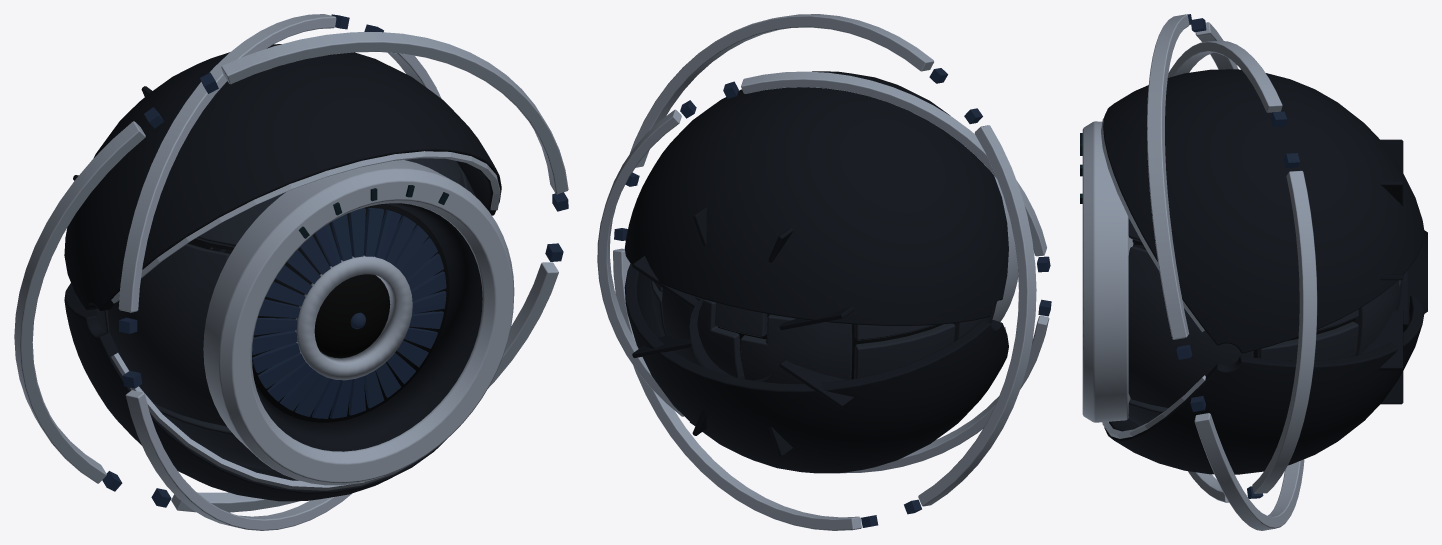
Rendered from ch1-scorer.glb.
3 renders of one model, left to right at view 1: azimuth 30°, elevation 25°; view 2: azimuth 150°, elevation 25°; view 3: azimuth 270°, elevation 25°, orthographic. The views are drawn at different scales.
Parts seen in each view (by area): view 1: lid_top, bezel, ring_outer_band, bulb, housing, ring_inner_band, throat, lid_bottom, pupil_ring, pupil, iris_back, lid_top_lip (+3 smaller); view 2: lid_top, lid_bottom, ring_outer_band, housing, ring_inner_band, fins, ring_outer_nodes, bezel, hub, ring_inner_nodes, core; view 3: lid_top, lid_bottom, housing, bezel, ring_outer_band, ring_inner_band, fins, hub, lid_top_lip, lid_bottom_lip, ring_outer_nodes, ring_inner_nodes.
Boxes of the visible parts, x1,y1,x2,y2 form: lid_top: (64,44,501,310); bezel: (203,160,514,485); ring_outer_band: (14,32,568,512); bulb: (252,208,446,418); housing: (96,158,476,470); ring_inner_band: (118,14,441,530); throat: (254,203,482,451); lid_bottom: (64,283,446,501); pupil_ring: (295,255,412,380); pupil: (314,274,389,357); iris_back: (252,203,449,422); lid_top_lip: (111,151,500,303); lid_top: (624,71,1008,325); lid_bottom: (624,263,1008,473); ring_outer_band: (613,14,1036,530); housing: (650,279,996,383); ring_inner_band: (597,71,1049,473); fins: (632,207,854,456); ring_outer_nodes: (614,68,982,527); bezel: (992,176,1018,321); hub: (689,298,775,381); ring_inner_nodes: (680,81,1051,425); core: (718,314,942,379); lid_top: (1103,69,1424,353); lid_bottom: (1104,295,1424,474); housing: (1128,218,1402,425); bezel: (1082,121,1133,422); ring_outer_band: (1147,14,1304,530); ring_inner_band: (1168,40,1317,502); fins: (1360,139,1403,404); hub: (1398,230,1427,324); lid_top_lip: (1101,118,1204,331); lid_bottom_lip: (1102,375,1205,438); ring_outer_nodes: (1176,14,1206,411); ring_inner_nodes: (1247,111,1299,498).
Bounding box in the file's own units: 0.5869 × 0.5776 × 0.394.
